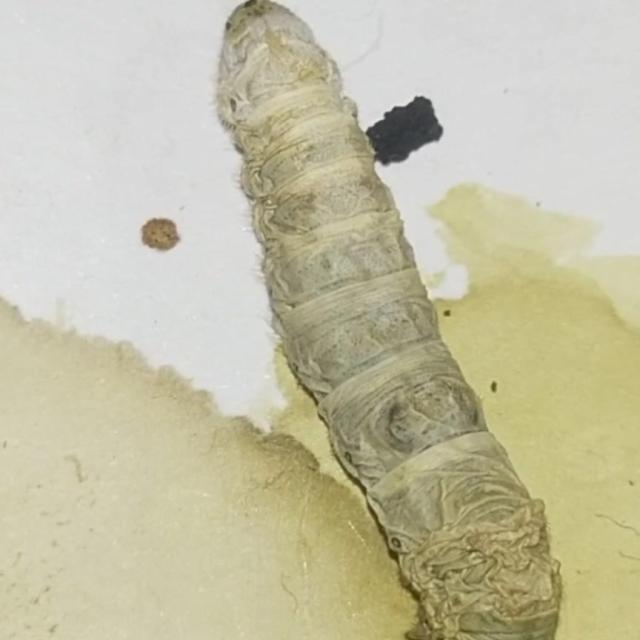Grasserie: (203, 0, 572, 640)
